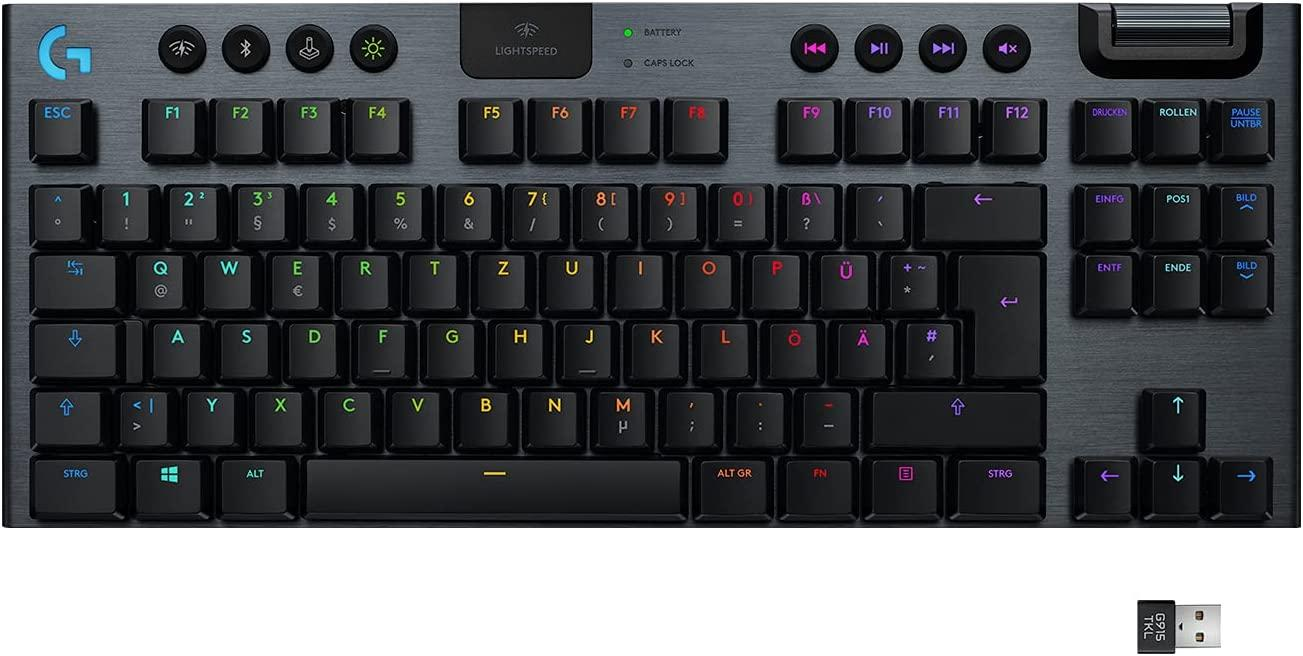0: (711, 177, 768, 240)
1: (97, 178, 149, 239)
2: (164, 179, 218, 240)
3: (231, 179, 286, 241)
4: (302, 178, 356, 240)
5: (369, 177, 425, 241)
6: (438, 177, 496, 240)
7: (507, 179, 562, 240)
8: (574, 178, 632, 241)
9: (643, 178, 699, 240)
a: (149, 316, 200, 376)
accent: (849, 178, 904, 239)
ae: (832, 316, 885, 377)
alt-left: (216, 452, 288, 512)
altgr-right: (694, 454, 768, 514)
b: (453, 384, 509, 445)
c: (319, 384, 372, 443)
caret: (28, 180, 81, 239)
comma: (660, 385, 714, 445)
d: (284, 316, 337, 376)
del: (919, 178, 1041, 240)
e: (267, 248, 320, 308)
enter: (951, 248, 1043, 378)
f: (353, 316, 406, 375)
g: (422, 315, 475, 376)
h: (489, 316, 544, 376)
hash: (901, 316, 953, 376)
i: (610, 248, 664, 306)
j: (558, 316, 612, 377)
k: (627, 316, 681, 377)
keyboard: (1, 5, 1299, 547)
l: (695, 316, 749, 376)
less: (115, 384, 167, 443)
m: (591, 384, 647, 445)
minus: (796, 384, 851, 445)
n: (523, 384, 578, 444)
o: (678, 248, 733, 307)
oe: (764, 316, 817, 376)
p: (746, 248, 800, 307)
plus: (884, 247, 938, 307)
point: (731, 385, 784, 444)
q: (130, 248, 184, 308)
r: (335, 247, 389, 307)
s: (217, 316, 269, 376)
shift-left: (29, 386, 100, 443)
shift-lock: (29, 317, 117, 376)
shift-right: (868, 385, 1042, 445)
space: (299, 452, 683, 516)
ss: (779, 178, 836, 241)
strg-left: (28, 453, 116, 514)
strg-right: (952, 454, 1043, 514)
t: (405, 247, 457, 306)
tab: (30, 248, 116, 307)
u: (541, 247, 595, 308)
ue: (816, 247, 869, 309)
v: (387, 384, 440, 443)
w: (199, 248, 251, 307)
x: (252, 385, 303, 443)
y: (183, 385, 235, 443)
z: (473, 247, 526, 307)
